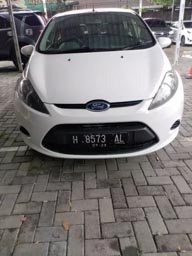plat: (70, 134, 126, 143)
